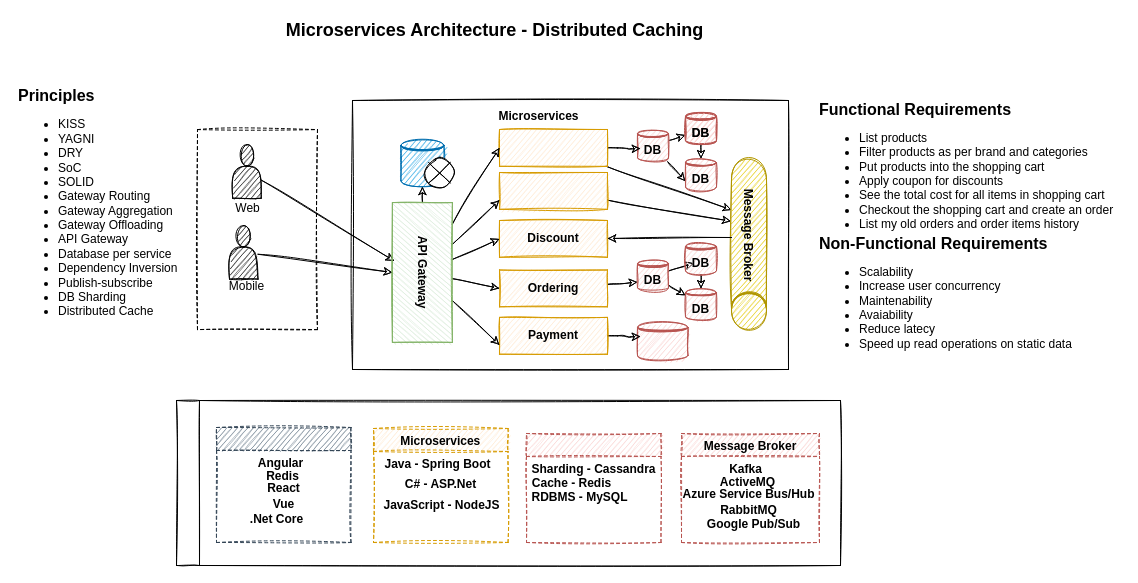
Some shapes in this 1138 by 583 pixel diagram are drawn without their labels. The shapes that lost their labels are listed below. From the top down, each one's box as (x1, y1, x2, y2) in pixels, then its label:
(400, 138, 444, 186): Cache
(498, 128, 608, 166): Catalog
(498, 172, 608, 209): Shopping Cart
(636, 322, 688, 360): RDBMS
(216, 426, 351, 542): UI
(176, 400, 840, 566): Technology stack
(526, 432, 661, 542): Databases
